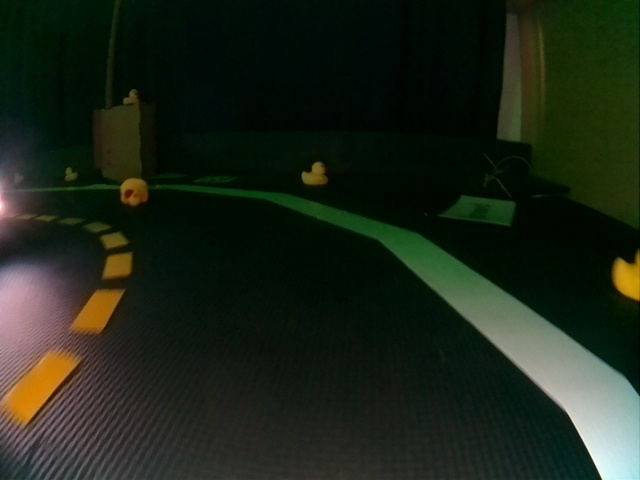Duckie: (613, 251, 637, 300), (120, 178, 146, 205), (303, 161, 326, 185), (123, 90, 139, 103), (68, 168, 77, 181)
QR code: (195, 174, 238, 183)
